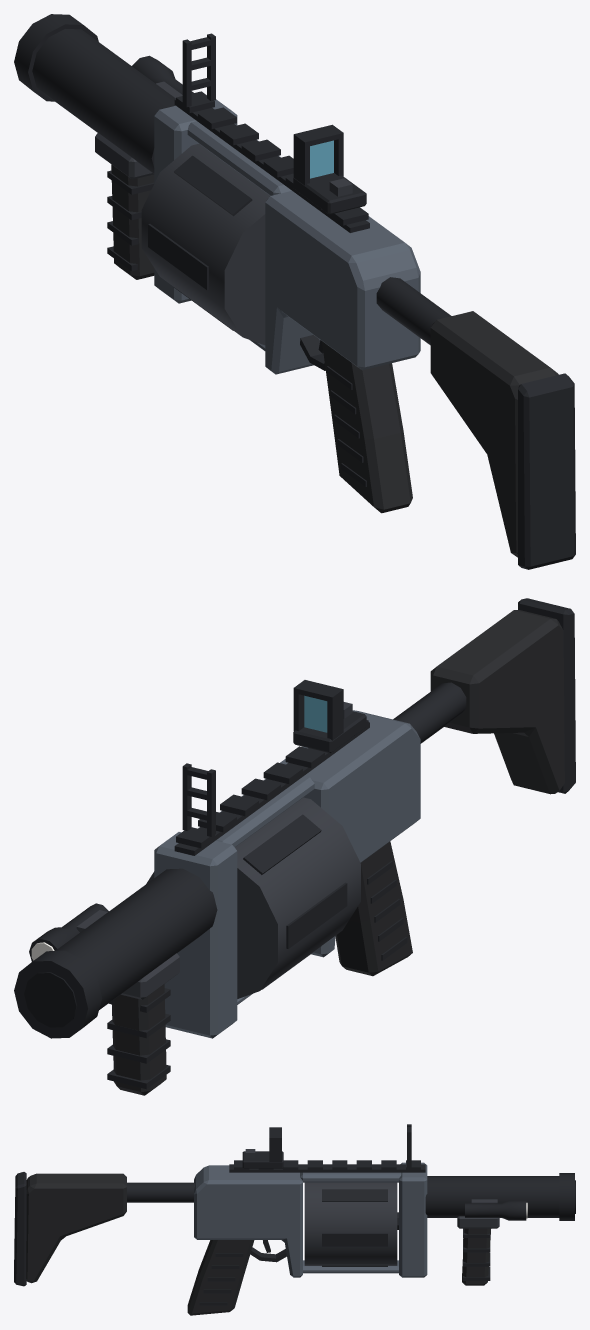
Rendered from grenade_launcher.glb.
The picture shows the model from 3 angles, top to bottom: view 1: azimuth 30°, elevation 25°; view 2: azimuth 150°, elevation 25°; view 3: azimuth 270°, elevation 25°; orthographic projection. The views are drawn at different scales.
Parts seen in each view (by area): view 1: Body, Mag, Att_Scope, Att_Flashlight; view 2: Body, Mag, Att_Scope, Att_Flashlight; view 3: Body, Mag, Att_Flashlight, Att_Scope.
Boxes of the visible parts, x1,y1,x2,y2 form: Body: [14, 14, 575, 569]; Mag: [141, 144, 269, 345]; Att_Scope: [293, 124, 366, 214]; Att_Flashlight: [132, 55, 193, 98]; Body: [14, 598, 575, 1095]; Mag: [146, 797, 360, 998]; Att_Scope: [293, 680, 366, 753]; Att_Flashlight: [29, 903, 108, 961]; Body: [14, 1124, 575, 1315]; Mag: [304, 1182, 398, 1266]; Att_Flashlight: [465, 1199, 527, 1220]; Att_Scope: [242, 1127, 283, 1168].
Size of the model in its own units: 0.1154 by 0.258 by 0.7152.
